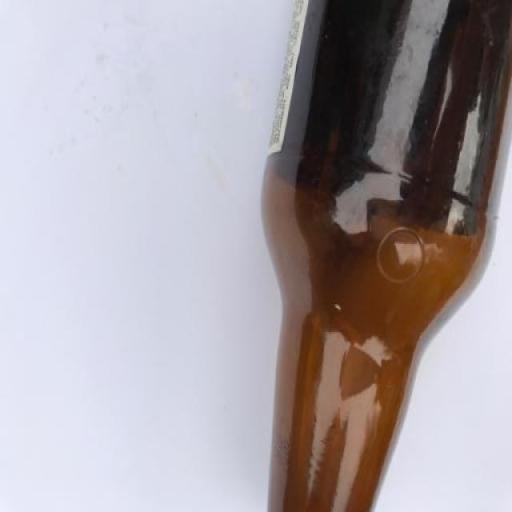glass: (237, 0, 512, 512)
